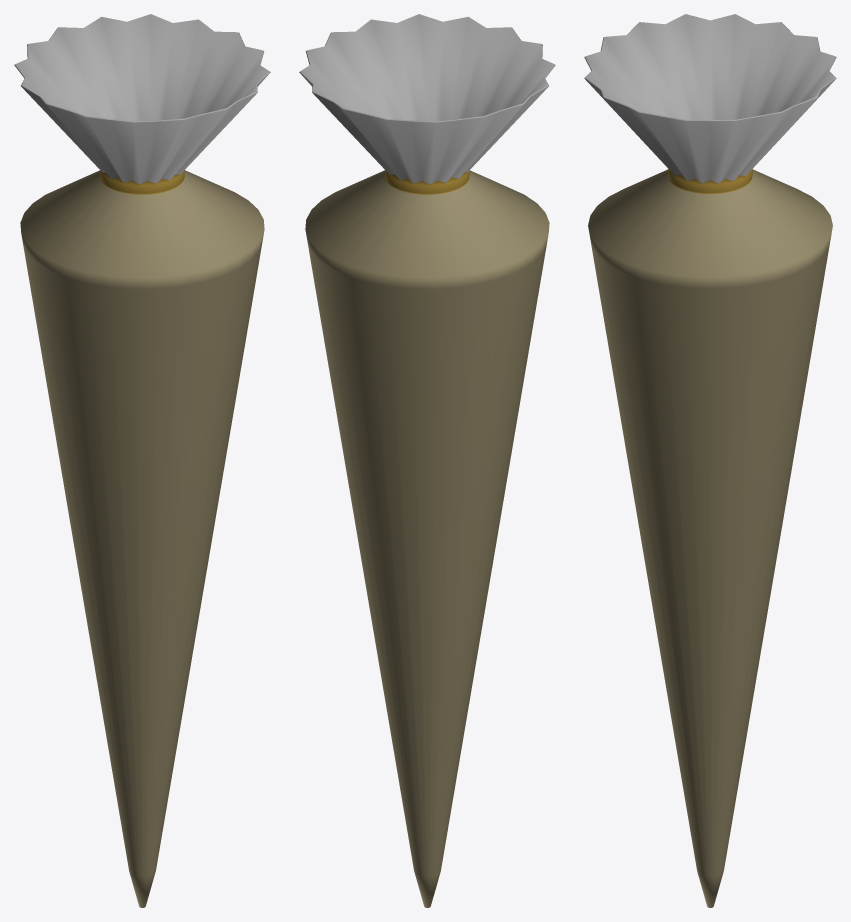
File: piping bag cream cheese.fbx
3 views of the same model, side by side, from view 1: azimuth 30°, elevation 25°; view 2: azimuth 150°, elevation 25°; view 3: azimuth 270°, elevation 25° (orthographic).
Parts seen in each view (by area): view 1: Cylinder; view 2: Cylinder; view 3: Cylinder.
Boxes of the visible parts, bbox=[...] form: Cylinder: bbox=[14, 14, 270, 907]; Cylinder: bbox=[299, 14, 555, 907]; Cylinder: bbox=[584, 14, 836, 907].
Bounding box in the file's own units: 114 × 417 × 114.
